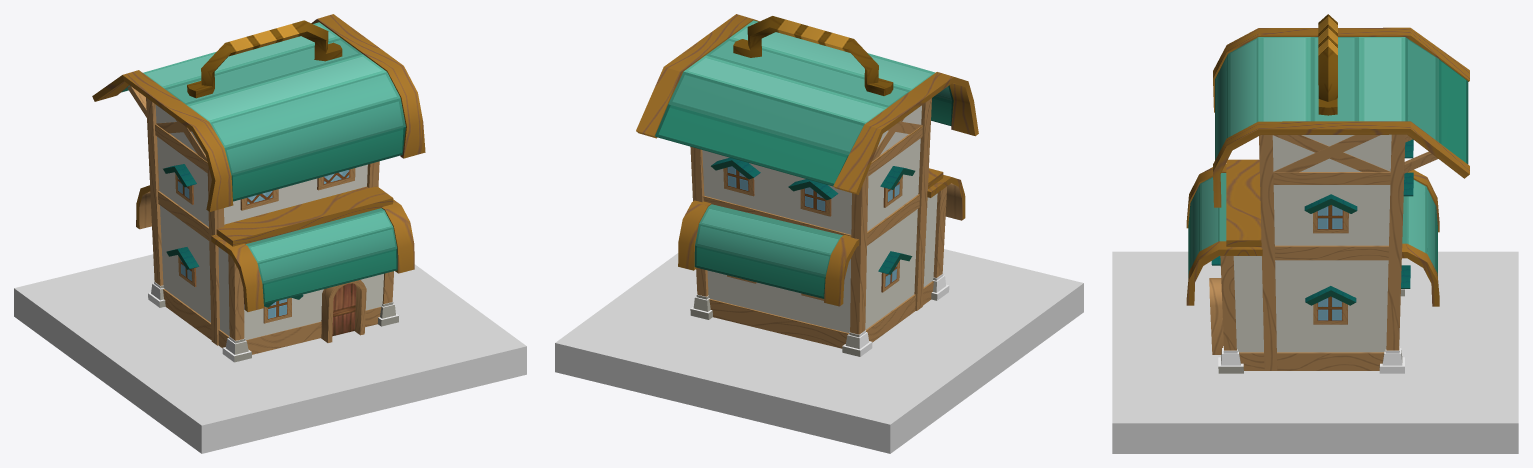
File: building_variety_lv3.FBX
3 renders of one model, left to right at view 1: azimuth 30°, elevation 25°; view 2: azimuth 150°, elevation 25°; view 3: azimuth 270°, elevation 25°, orthographic. The views are drawn at different scales.
Visible parts, largest first — view 1: under_floor, building_variety_main_lv3, building_variety_lv3; view 2: under_floor, building_variety_main_lv3, building_variety_lv3; view 3: under_floor, building_variety_main_lv3, building_variety_lv3.
Boxes of the visible parts, bbox=[...] form: under_floor: bbox=[14, 254, 526, 453]; building_variety_main_lv3: bbox=[121, 22, 405, 340]; building_variety_lv3: bbox=[92, 14, 425, 362]; under_floor: bbox=[555, 249, 1083, 453]; building_variety_main_lv3: bbox=[655, 20, 953, 332]; building_variety_lv3: bbox=[636, 14, 978, 356]; under_floor: bbox=[1112, 251, 1518, 453]; building_variety_main_lv3: bbox=[1188, 37, 1468, 352]; building_variety_lv3: bbox=[1186, 14, 1469, 373].
Size of the model in its own units: 600 by 549 by 600.
